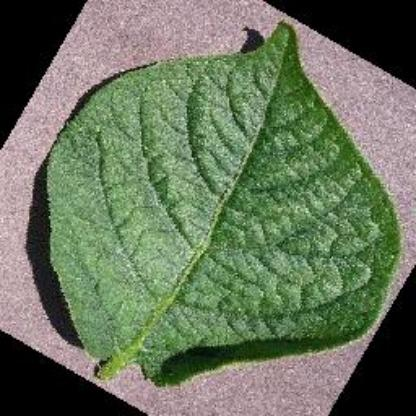Healthy-plant: (11, 10, 408, 402)
